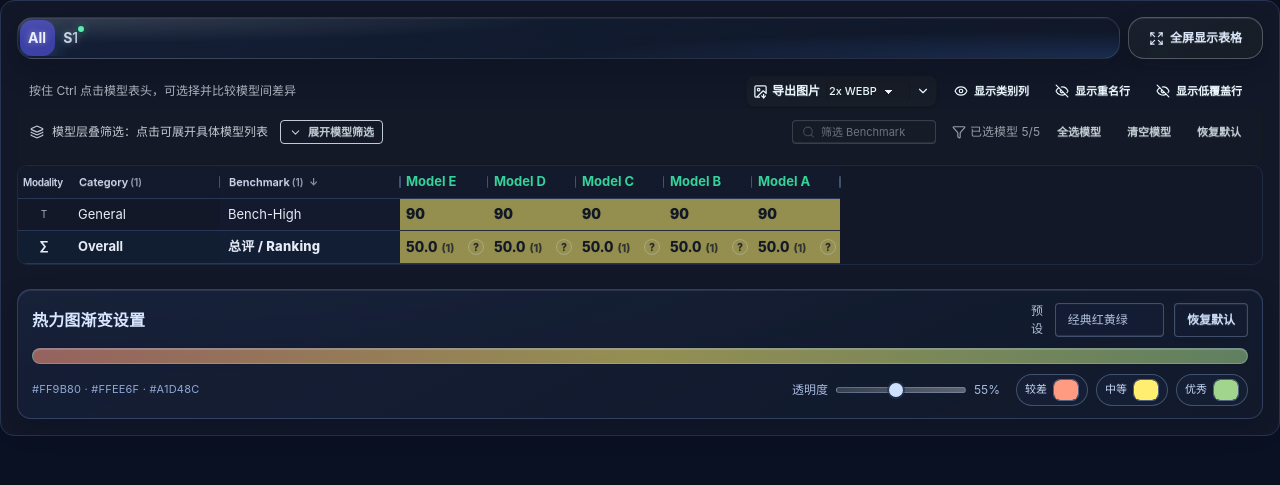
Test: BenchmarkMatrix 搜索筛选与低覆盖率状态恢复 › 若搜索前低覆盖行已经是显示状态，搜索结束后应当保持显示
The width and height of the screenshot is (1280, 485).
Note: 展开并手动勾选“显示低覆盖行”
Click the button "显示低覆盖行" at [1199, 91], box [1147,79,1251,103]
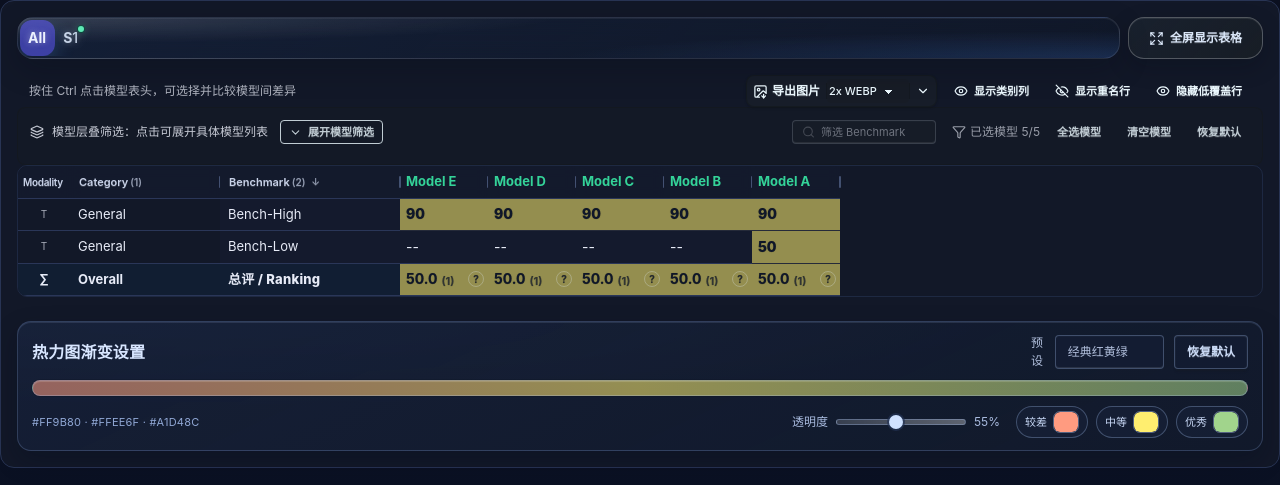
Expected: the text "Bench-High" is shown, [228,206,301,222]
Expected: the text "Bench-Low" is shown, [228,238,298,254]
Type "Bench-Low" into the field with placeholder "筛选 Benchmark" at [864, 132], box [792,120,936,144]
Wait 300 ms
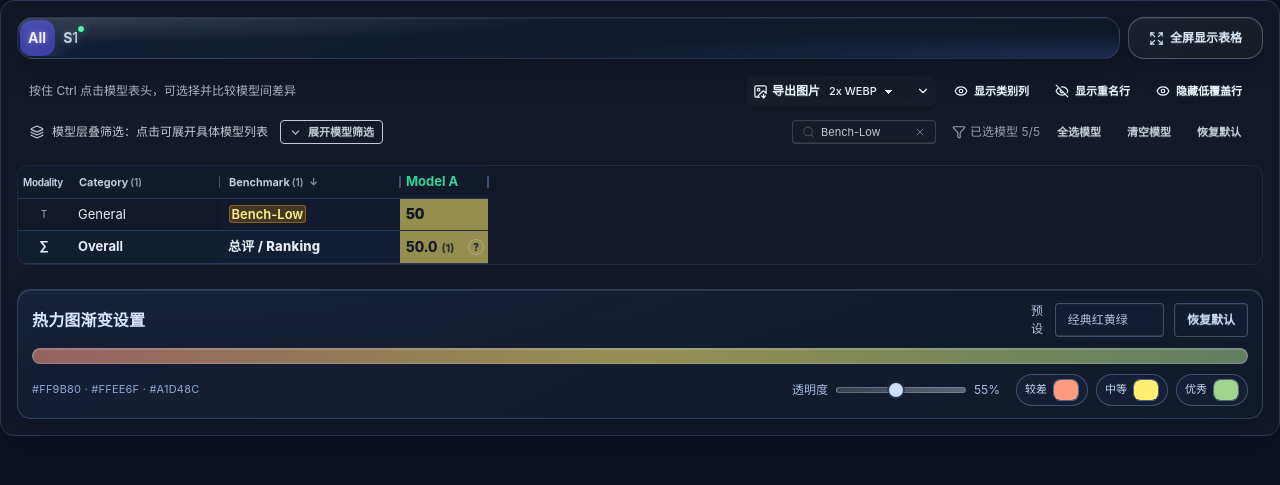
Expected: the text "Bench-Low" is shown, [228,205,306,223]
Expected: the text "Bench-High" is gone
Click the button named "清除搜索" at [920, 132], box [910,122,930,142]
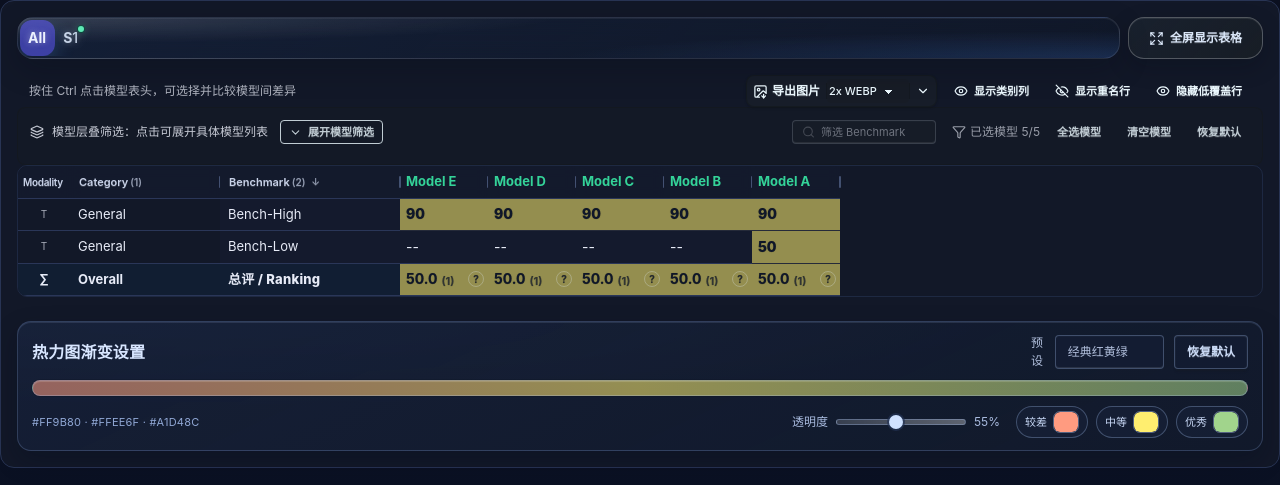
Expected: the text "Bench-Low" is shown, [228,238,298,254]
Expected: the text "Bench-High" is shown, [228,206,301,222]
